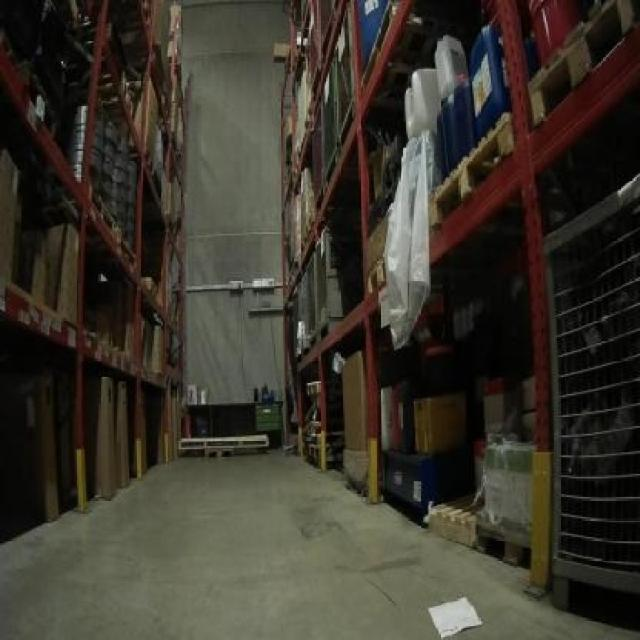floor: (0, 449, 637, 637)
pallets: (278, 0, 637, 623)
